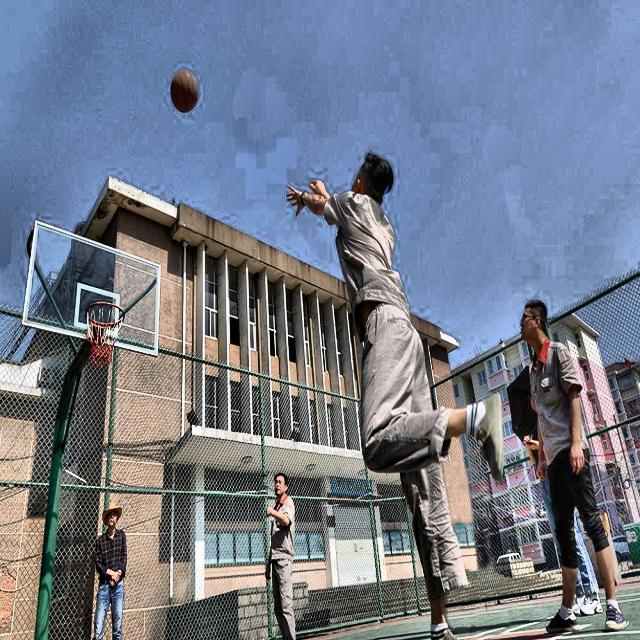board: (170, 68, 199, 114)
rim: (87, 303, 125, 361)
